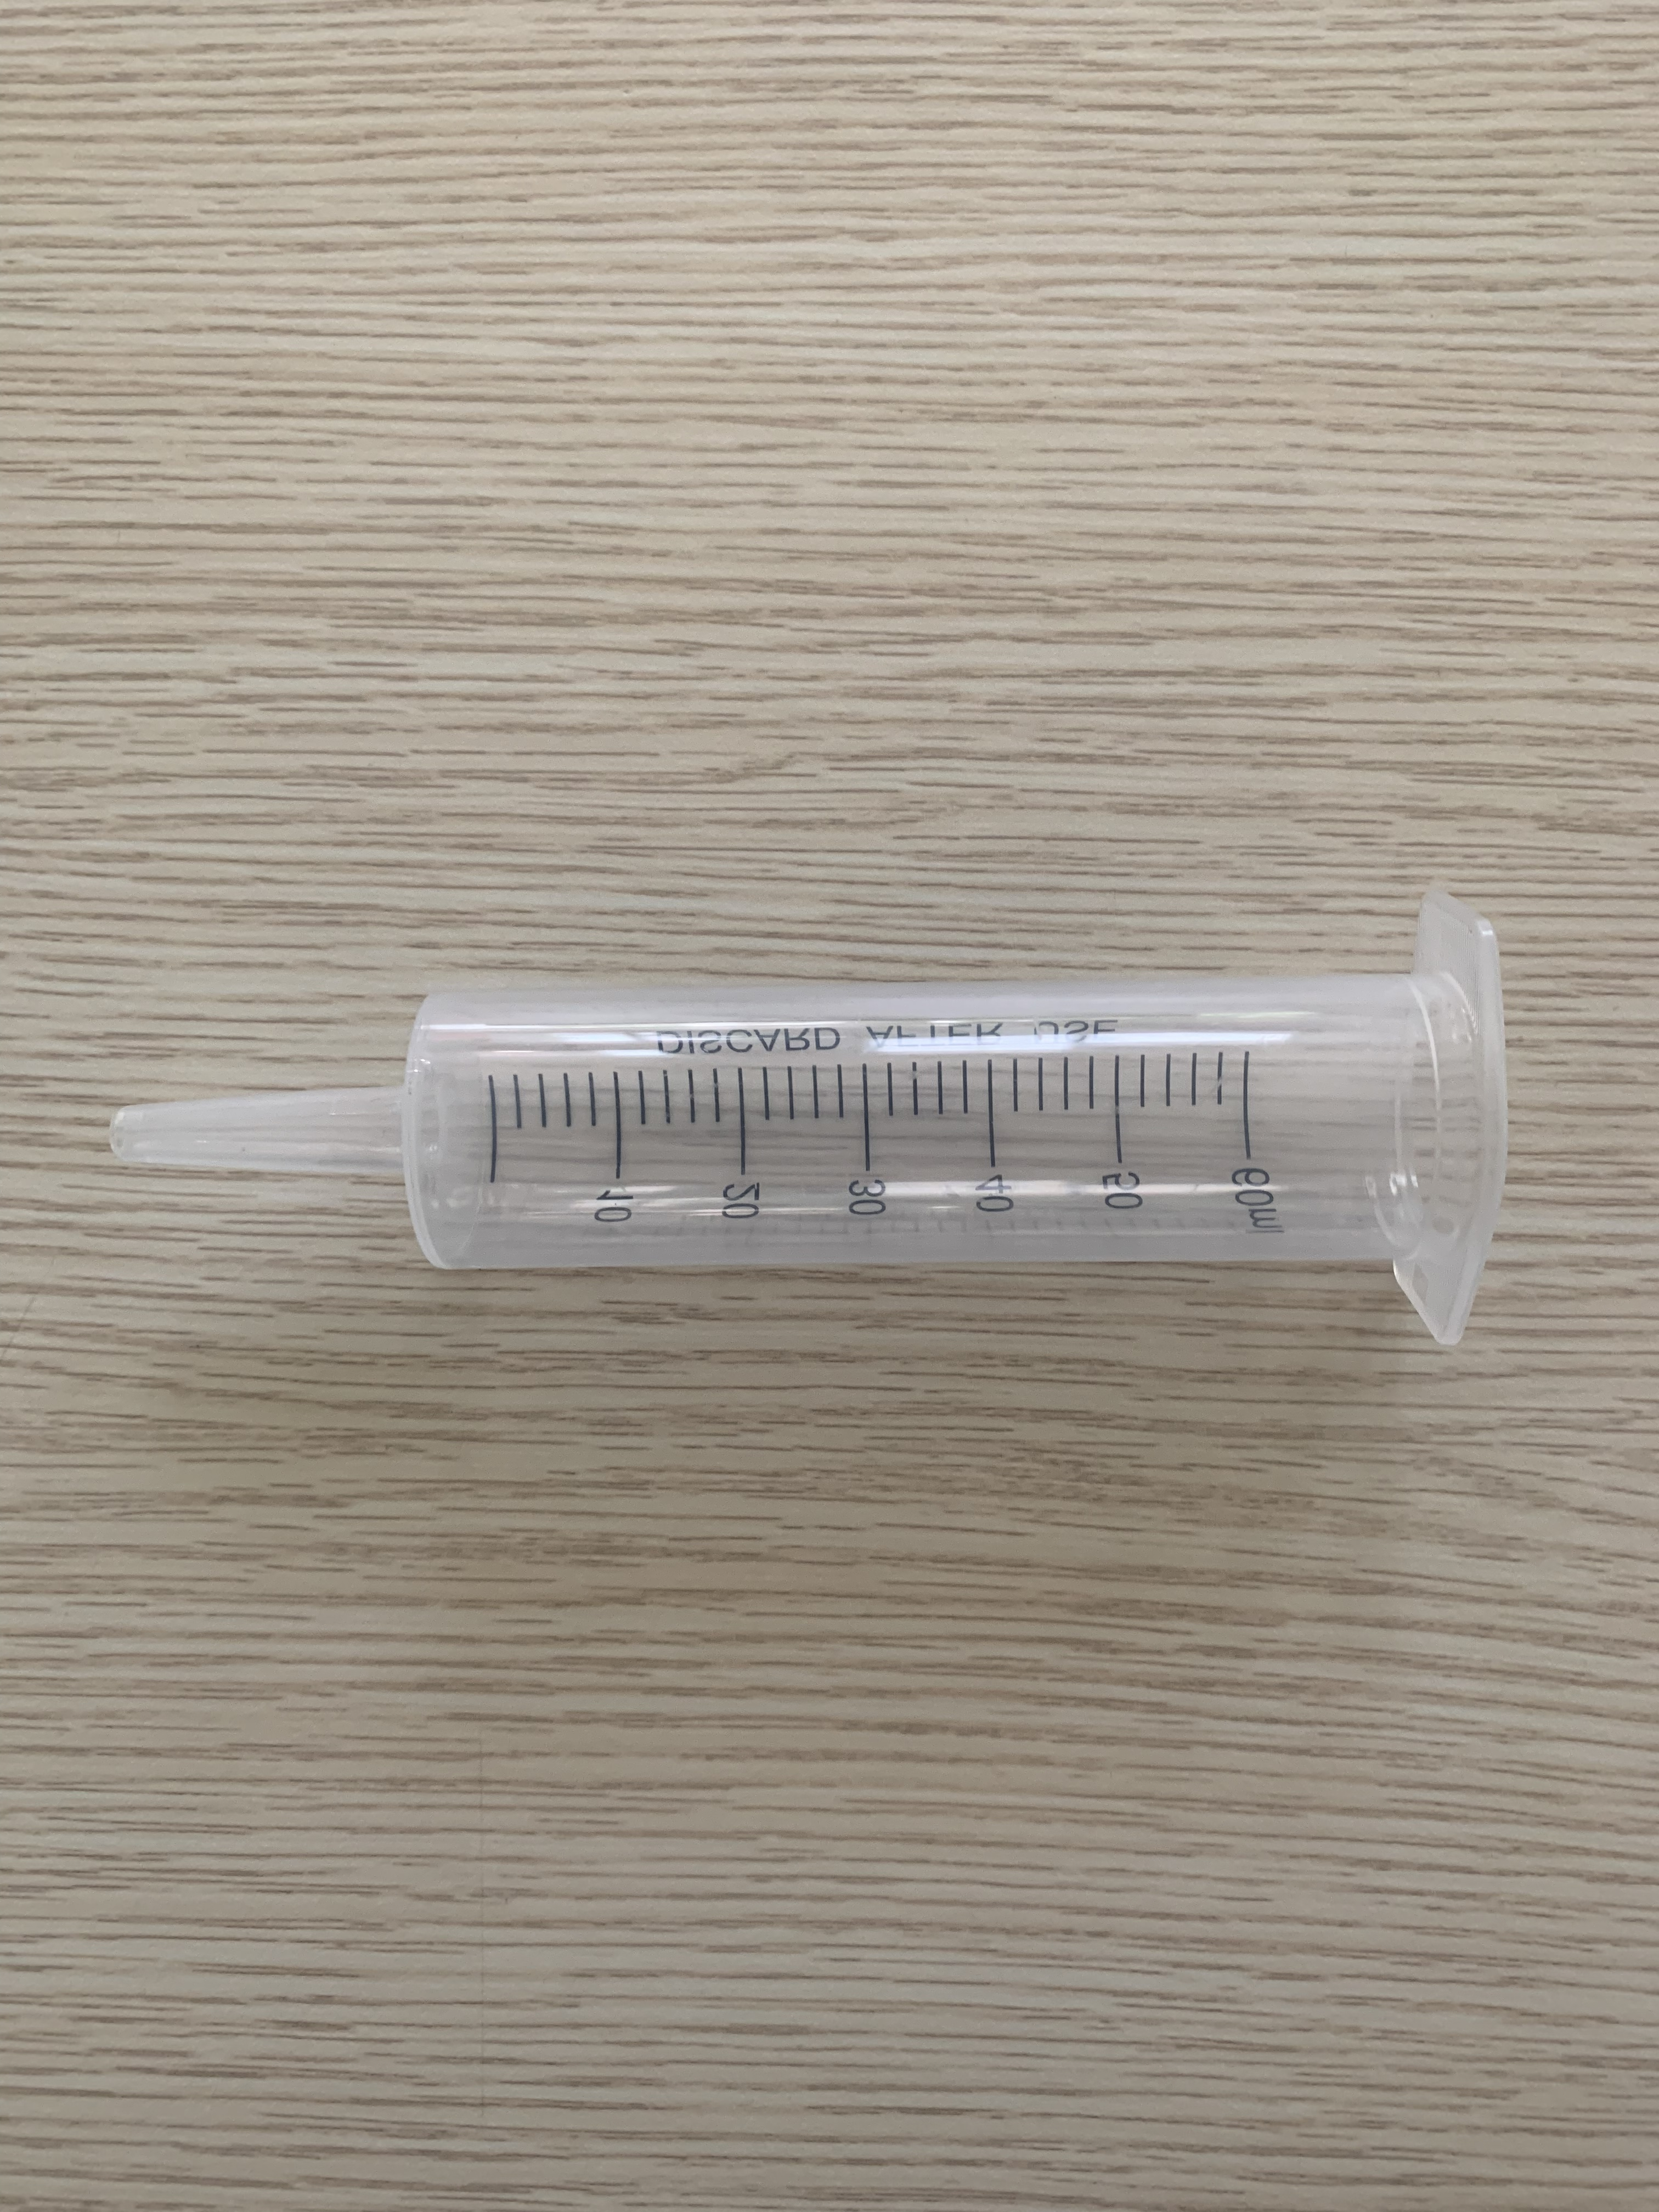syringe: (94, 866, 1523, 1357)
